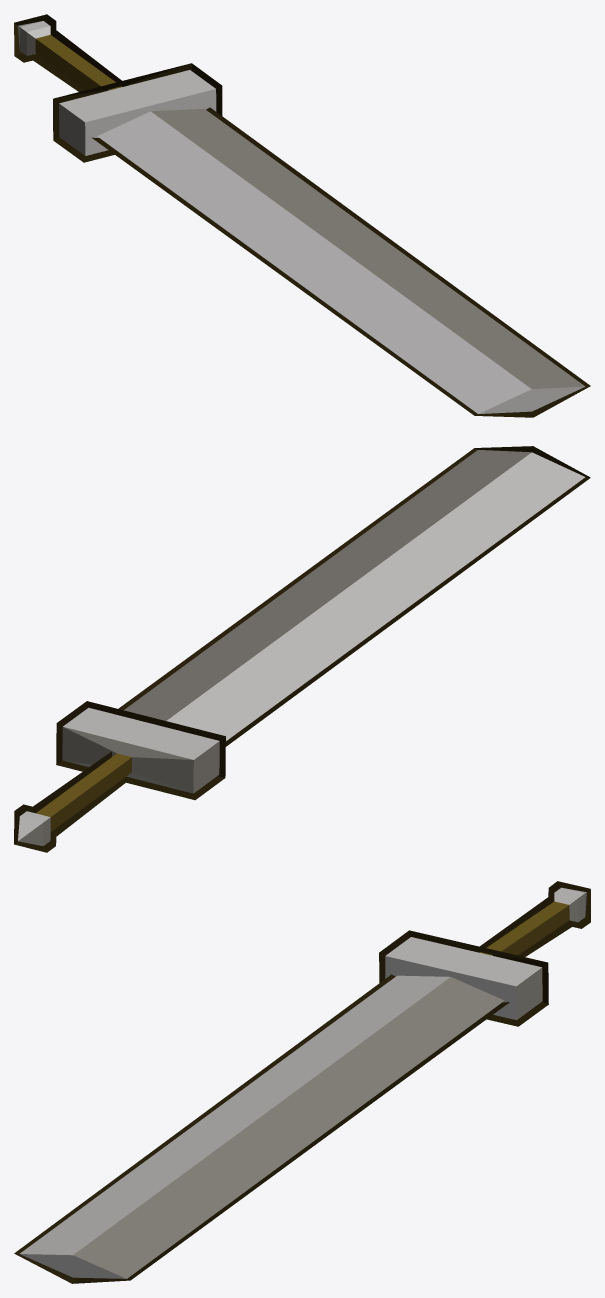
The model's file is 2Hand-Sword.gltf.
3 renders of one model, top to bottom at view 1: azimuth 30°, elevation 25°; view 2: azimuth 150°, elevation 25°; view 3: azimuth 330°, elevation 25°, orthographic.
Parts seen in each view (by area): view 1: Mesh; view 2: Mesh; view 3: Mesh.
Part boxes in pixels (bbox=[...]): Mesh: bbox=[14, 14, 590, 417]; Mesh: bbox=[14, 446, 590, 852]; Mesh: bbox=[14, 881, 590, 1283].
Bounding box in the file's own units: 0.4459 × 0.1327 × 2.87.
1 material, 1 textured.
